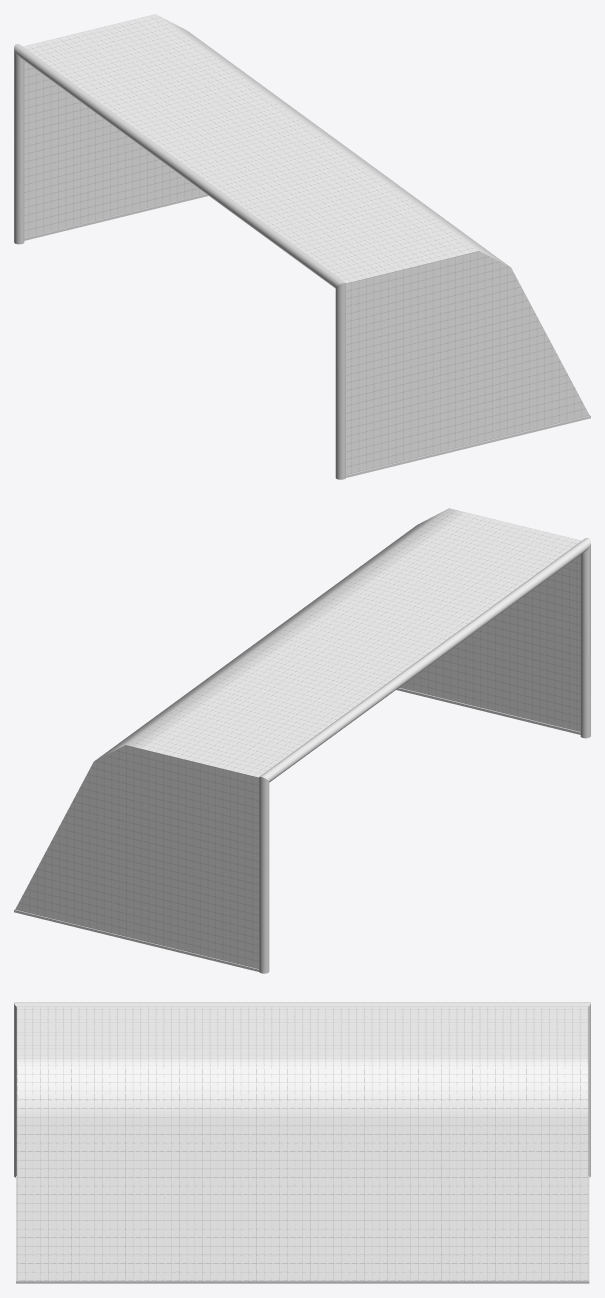
The model's file is Trave04.FBX.
3 views of the same model, one above another, from view 1: azimuth 30°, elevation 25°; view 2: azimuth 150°, elevation 25°; view 3: azimuth 270°, elevation 25° (orthographic). The views are drawn at different scales.
Visible parts, largest first — view 1: Rede04, Trave004, Arco004; view 2: Rede04, Trave004, Arco004; view 3: Rede04, Trave004, Arco004.
Part boxes in pixels (x1=…): Rede04: x1=23, y1=14, x2=589, y2=474; Trave004: x1=14, y1=44, x2=345, y2=479; Arco004: x1=24, y1=194, x2=590, y2=477; Rede04: x1=15, y1=508, x2=581, y2=968; Trave004: x1=259, y1=538, x2=590, y2=973; Arco004: x1=14, y1=688, x2=580, y2=971; Rede04: x1=17, y1=1007, x2=588, y2=1281; Trave004: x1=14, y1=1002, x2=590, y2=1177; Arco004: x1=16, y1=1176, x2=589, y2=1283.
Bounding box in the file's own units: 3.32 × 2.46 × 7.42.
